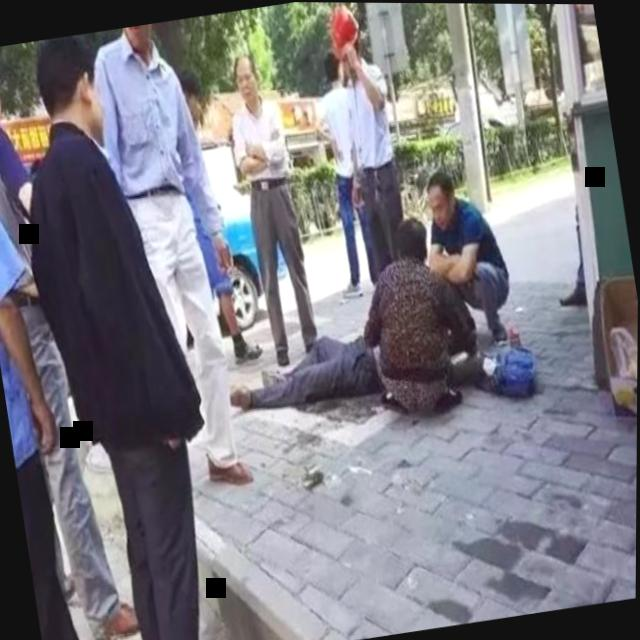Fall-Detected: (218, 296, 400, 425)
